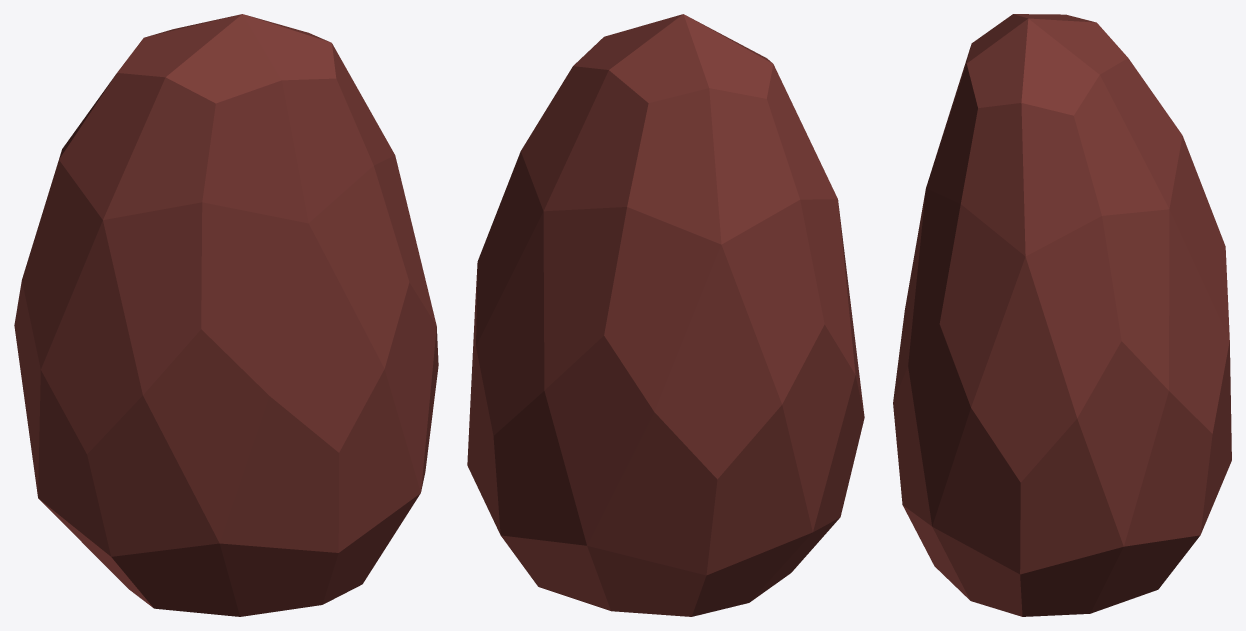
Rendered from Rock_6_Red.fbx.
3 renders of one model, left to right at view 1: azimuth 30°, elevation 25°; view 2: azimuth 150°, elevation 25°; view 3: azimuth 270°, elevation 25°, orthographic. The views are drawn at different scales.
Visible parts, largest first — view 1: Rock_6_Red; view 2: Rock_6_Red; view 3: Rock_6_Red.
Part boxes in pixels (x1=…): Rock_6_Red: x1=14, y1=14, x2=438, y2=616; Rock_6_Red: x1=467, y1=14, x2=864, y2=616; Rock_6_Red: x1=893, y1=14, x2=1231, y2=616.
Size of the model in its own units: 148 by 220 by 120.
